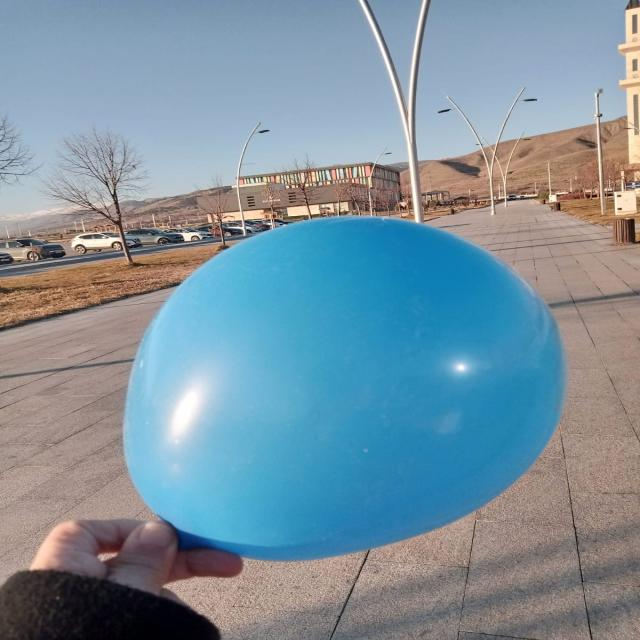balloon: (124, 216, 567, 560)
